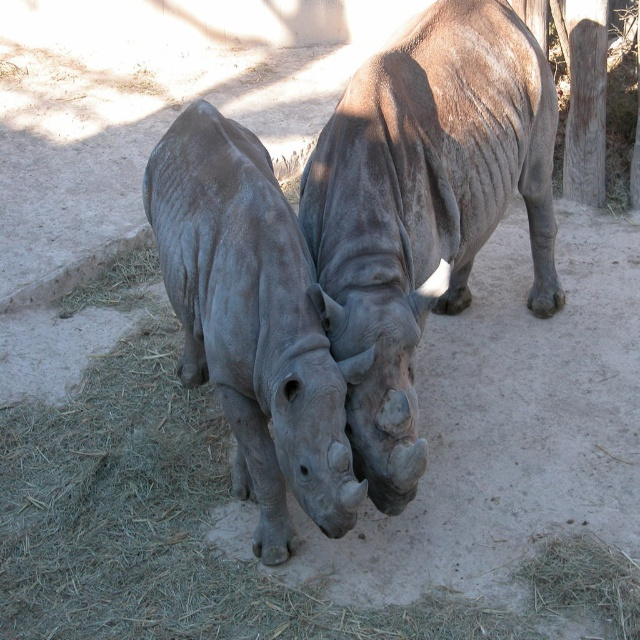Rhinoceros: (296, 0, 566, 520), (138, 94, 373, 562)
